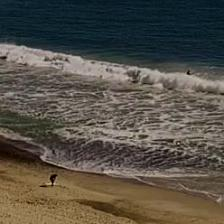surfer: (187, 70, 191, 75)
